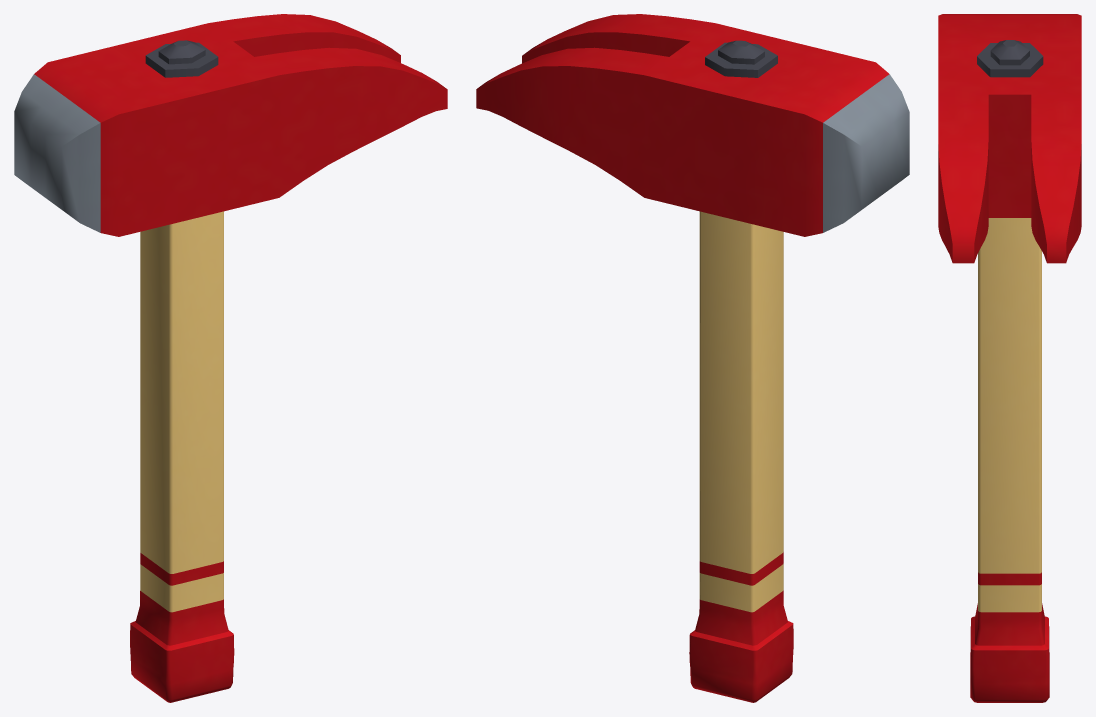
The model's file is Hammer_Lvl_3.fbx.
The picture shows the model from 3 angles, left to right: view 1: azimuth 30°, elevation 25°; view 2: azimuth 150°, elevation 25°; view 3: azimuth 270°, elevation 25°; orthographic projection.
Parts seen in each view (by area): view 1: Hammer_Lvl3_Head, Hammer_Lvl3_Handle; view 2: Hammer_Lvl3_Head, Hammer_Lvl3_Handle; view 3: Hammer_Lvl3_Head, Hammer_Lvl3_Handle.
Part boxes in pixels (x1=…): Hammer_Lvl3_Head: x1=14, y1=14, x2=447, y2=236; Hammer_Lvl3_Handle: x1=130, y1=211, x2=234, y2=702; Hammer_Lvl3_Head: x1=476, y1=14, x2=909, y2=236; Hammer_Lvl3_Handle: x1=689, y1=211, x2=793, y2=702; Hammer_Lvl3_Head: x1=938, y1=14, x2=1081, y2=263; Hammer_Lvl3_Handle: x1=970, y1=218, x2=1049, y2=702.
Bounding box in the file's own units: 41.45 × 66.57 × 13.39.
